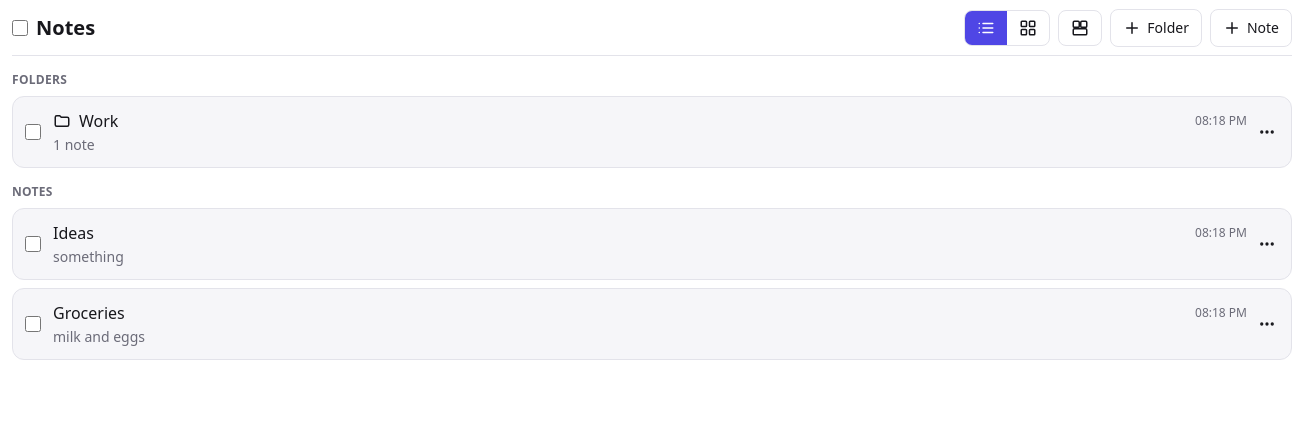
Library on desktop › copies the selected notes as Markdown
Click the checkbox named "Select Groceries" at (33, 324), box [25,316,41,332]
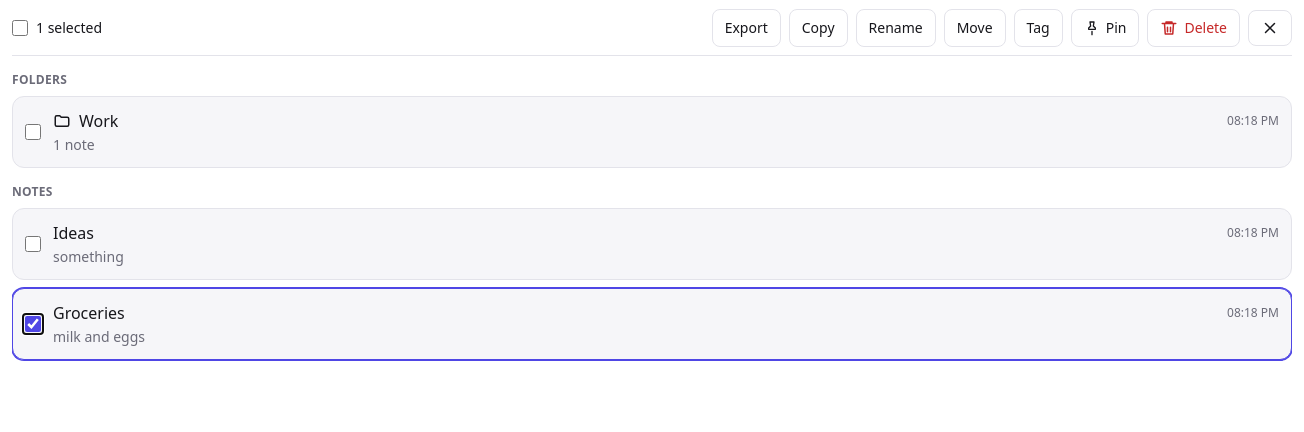
Click the checkbox named "Select Ideas" at (33, 244), box [25,236,41,252]
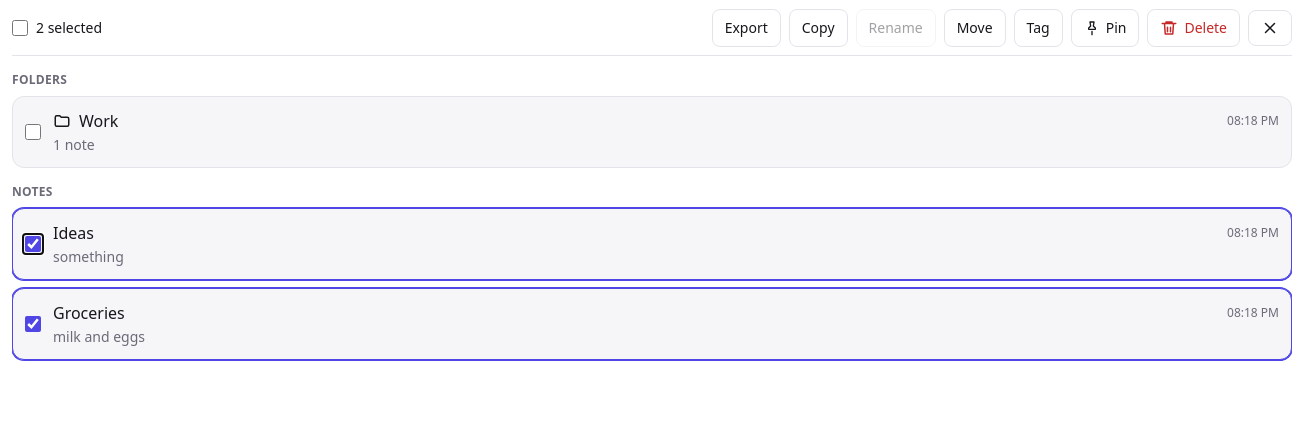
Click the button "Copy" at (818, 28), box [789,8,848,46]
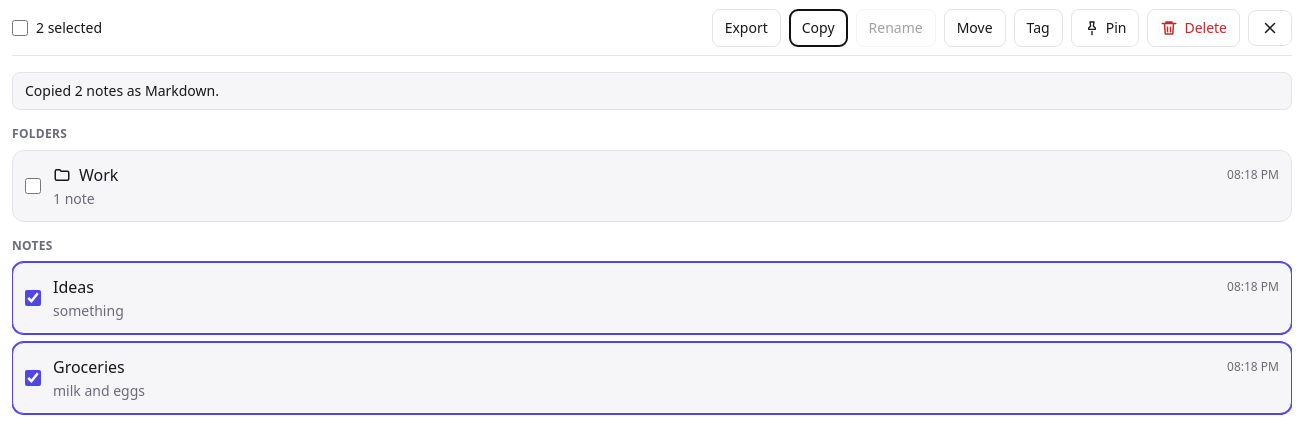
Expected: the text "Copied 2 notes as Markdown." is shown, [12,72,1292,110]
